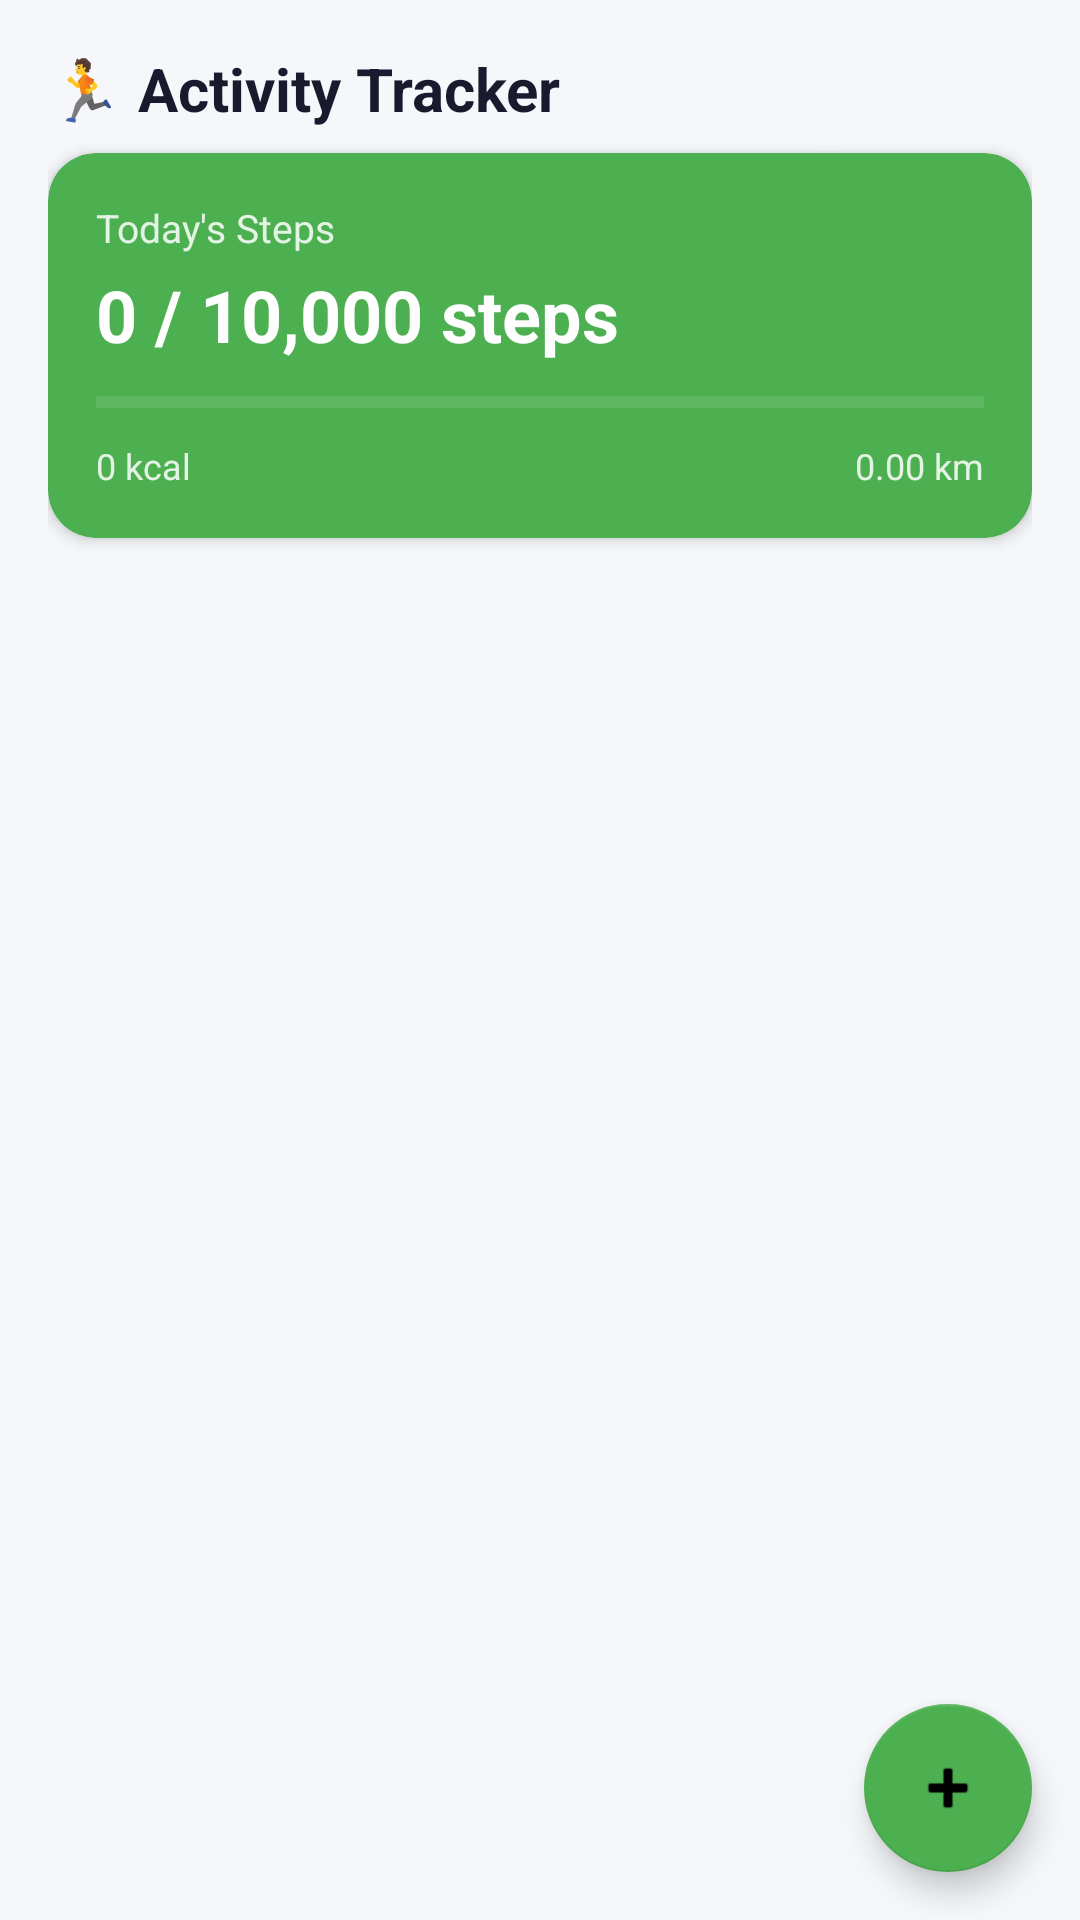

Icons on this 1080w x 1920h Android screen, each with the point to tap as (x,y):
Log activity: (948,1788)
